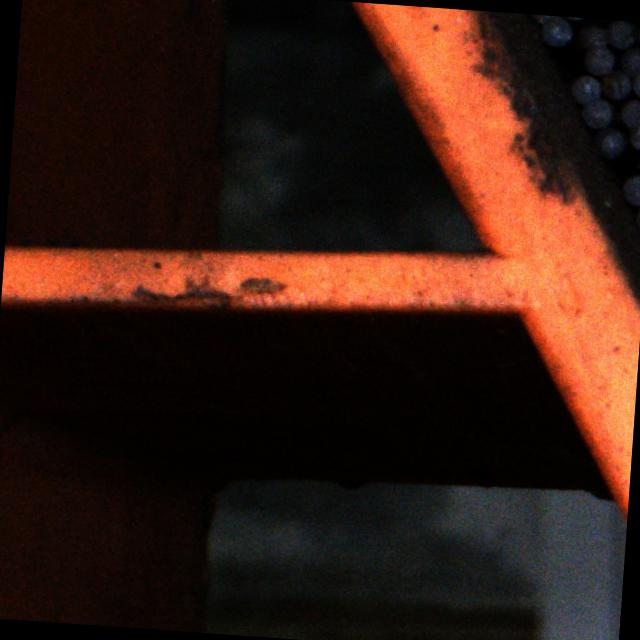tool: (578, 95, 612, 128), (568, 72, 602, 105), (582, 43, 616, 76), (538, 15, 571, 48), (591, 124, 626, 155), (570, 19, 606, 48), (599, 67, 630, 98), (601, 19, 634, 48), (616, 45, 640, 75), (617, 96, 640, 126), (620, 172, 640, 204), (627, 118, 640, 148), (627, 67, 640, 97), (633, 202, 640, 233), (632, 21, 640, 48)
void: (606, 143, 640, 178), (552, 42, 585, 76)
